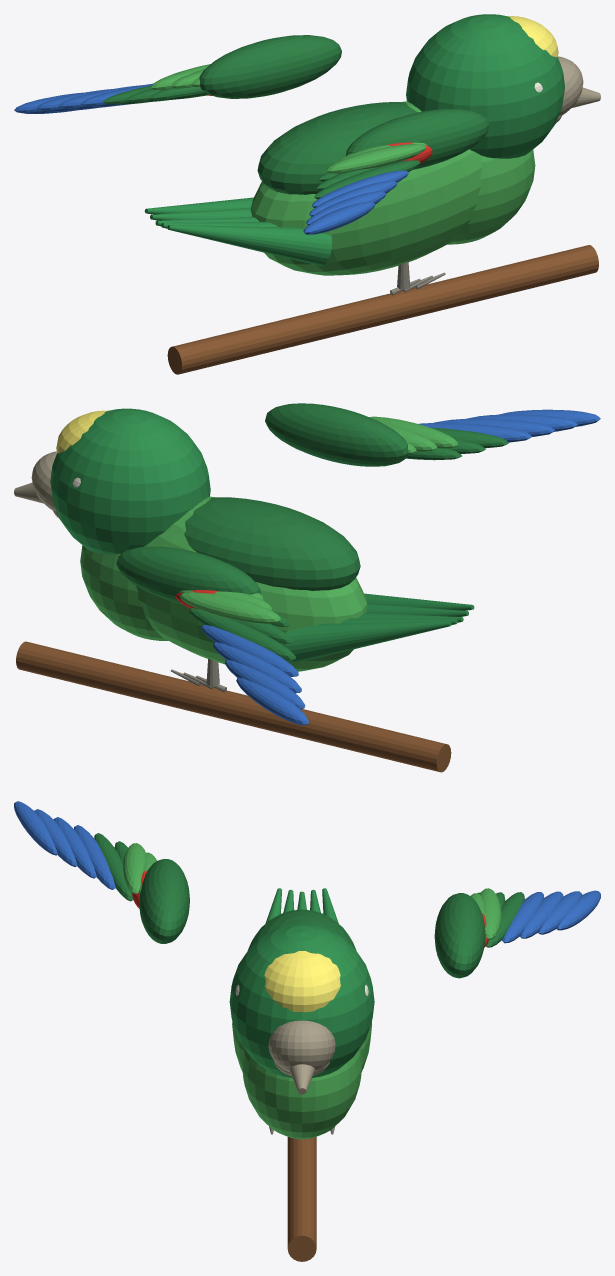
Rendered from loro.glb.
3 renders of one model, top to bottom at view 1: azimuth 30°, elevation 25°; view 2: azimuth 150°, elevation 25°; view 3: azimuth 270°, elevation 25°, orthographic.
Visible parts, largest first — view 1: Cabeza, Cuerpo, Rama, Dorso, Cobertora_D, Cobertora_I, Pecho, Pluma_cola_00, Secundaria_I_03, Primaria_I_06, Pluma_cola_04, Pico_superior (+9 smaller); view 2: Cabeza, Rama, Dorso, Cuerpo, Cobertora_I, Cobertora_D, Pecho, Pluma_cola_04, Secundaria_D_03, Primaria_D_02, Primaria_D_06, Primaria_D_03 (+16 smaller); view 3: Cabeza, Pecho, Frente_amarilla, Rama, Cobertora_D, Cobertora_I, Pico_superior, Dorso, Primaria_I_06, Primaria_I_03, Primaria_I_02, Secundaria_I_03 (+8 smaller).
Part boxes in pixels (x1,y1,x2,y2): Cabeza: [406, 14, 564, 158]; Cuerpo: [250, 101, 482, 275]; Rama: [167, 245, 598, 374]; Dorso: [257, 102, 417, 194]; Cobertora_D: [199, 35, 341, 98]; Cobertora_I: [346, 108, 489, 169]; Pecho: [447, 149, 535, 244]; Pluma_cola_00: [167, 225, 331, 265]; Secundaria_I_03: [326, 144, 426, 173]; Primaria_I_06: [303, 201, 375, 234]; Pluma_cola_04: [144, 197, 253, 214]; Pico_superior: [558, 56, 583, 115]; Cabeza: [50, 408, 210, 554]; Rama: [16, 641, 451, 772]; Dorso: [184, 497, 360, 590]; Cuerpo: [136, 496, 367, 671]; Cobertora_I: [265, 403, 408, 466]; Cobertora_D: [116, 546, 261, 604]; Pecho: [80, 545, 168, 640]; Pluma_cola_04: [285, 621, 451, 662]; Secundaria_D_03: [180, 592, 280, 623]; Primaria_D_02: [188, 608, 295, 660]; Primaria_D_06: [236, 677, 308, 725]; Primaria_D_03: [201, 625, 298, 676]; Cabeza: [229, 923, 374, 1077]; Pecho: [241, 1047, 362, 1139]; Frente_amarilla: [264, 951, 340, 1012]; Rama: [287, 1137, 316, 1261]; Cobertora_D: [434, 893, 485, 978]; Cobertora_I: [139, 859, 189, 943]; Pico_superior: [268, 1020, 335, 1072]; Dorso: [247, 909, 356, 950]; Primaria_I_06: [14, 801, 57, 855]; Primaria_I_03: [74, 825, 115, 889]; Primaria_I_02: [94, 833, 132, 901]; Secundaria_I_03: [123, 843, 145, 894].
Bounding box in the file's own units: 4.25 × 2.54 × 4.86.
